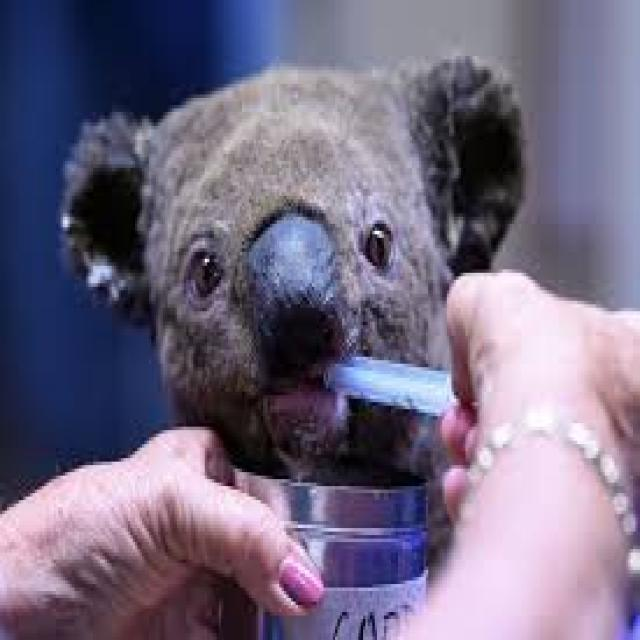Koala: (61, 48, 535, 460)
